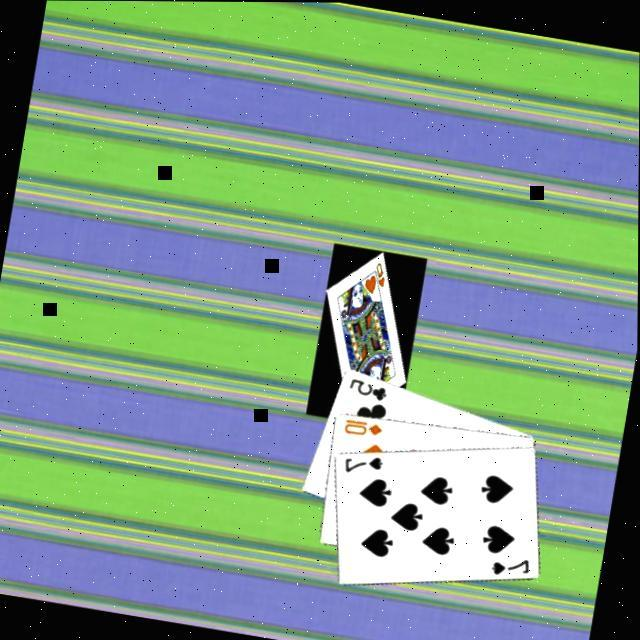10D: (342, 415, 388, 442)
5C: (347, 375, 392, 404)
7S: (489, 550, 536, 582), (343, 449, 388, 480)
